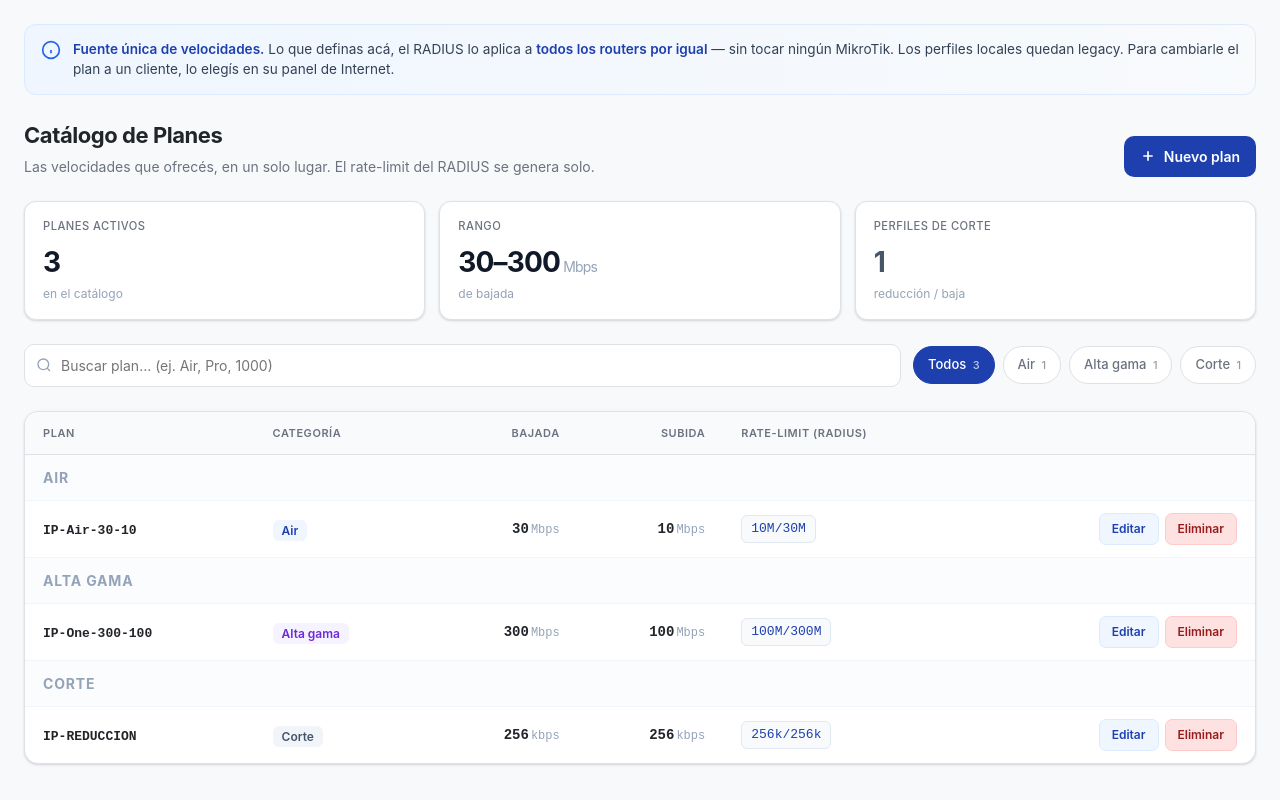
Test: PlansPage — create modal › closes modal on cancel
The image size is (1280, 800).
Click the button "Nuevo plan" at (1190, 156), box [1124,136,1256,177]
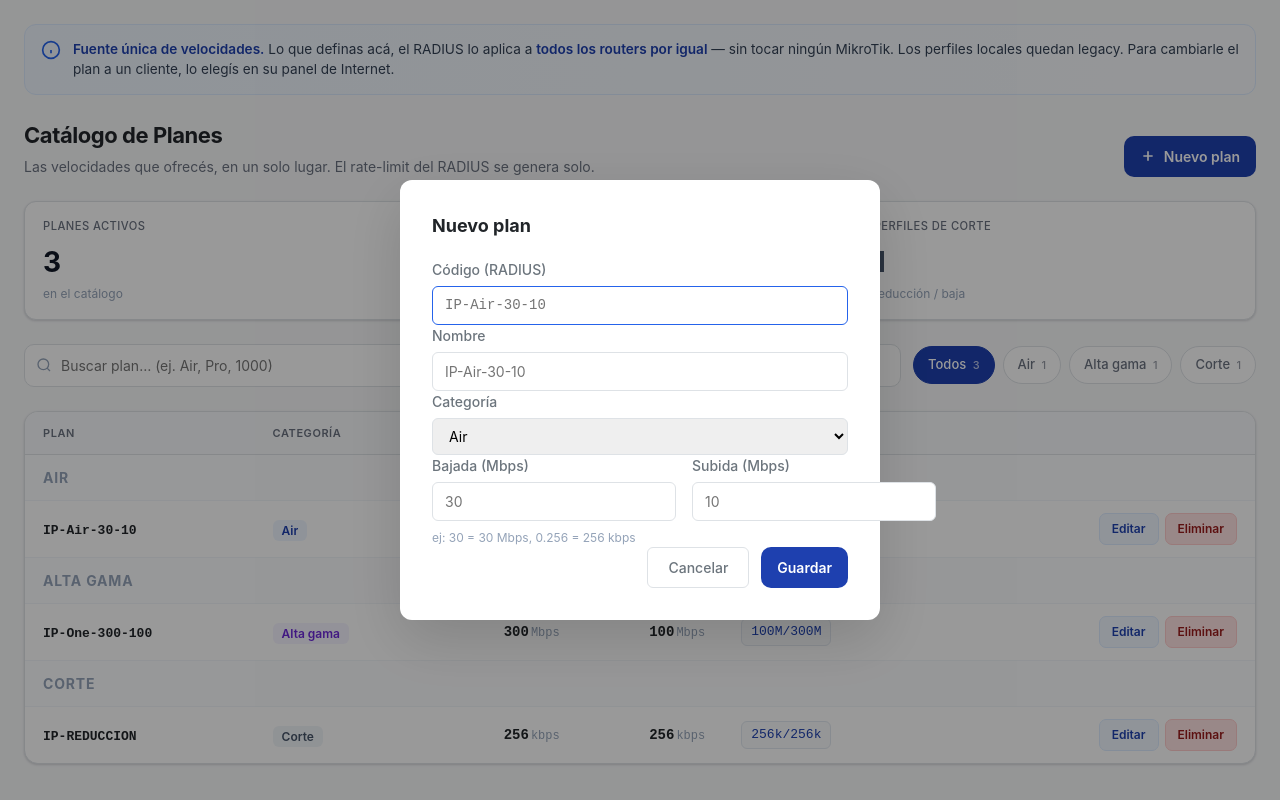
Click the button "Cancelar" at (698, 568), box [648,547,749,588]
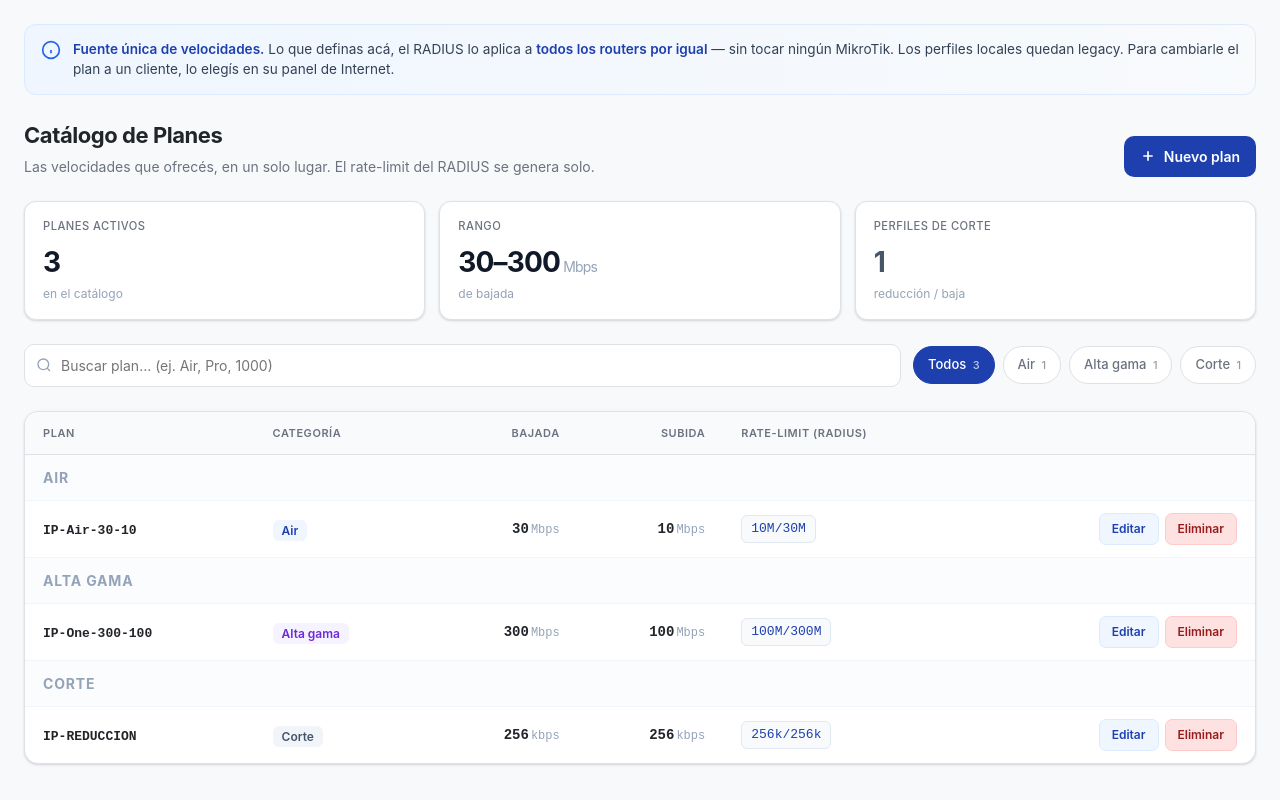
Check: the dialog is gone
